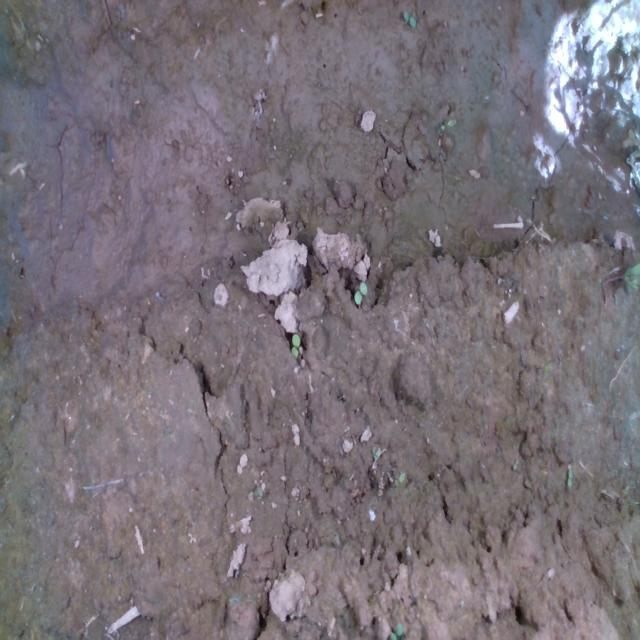weed: (281, 322, 304, 359), (353, 277, 373, 307)
